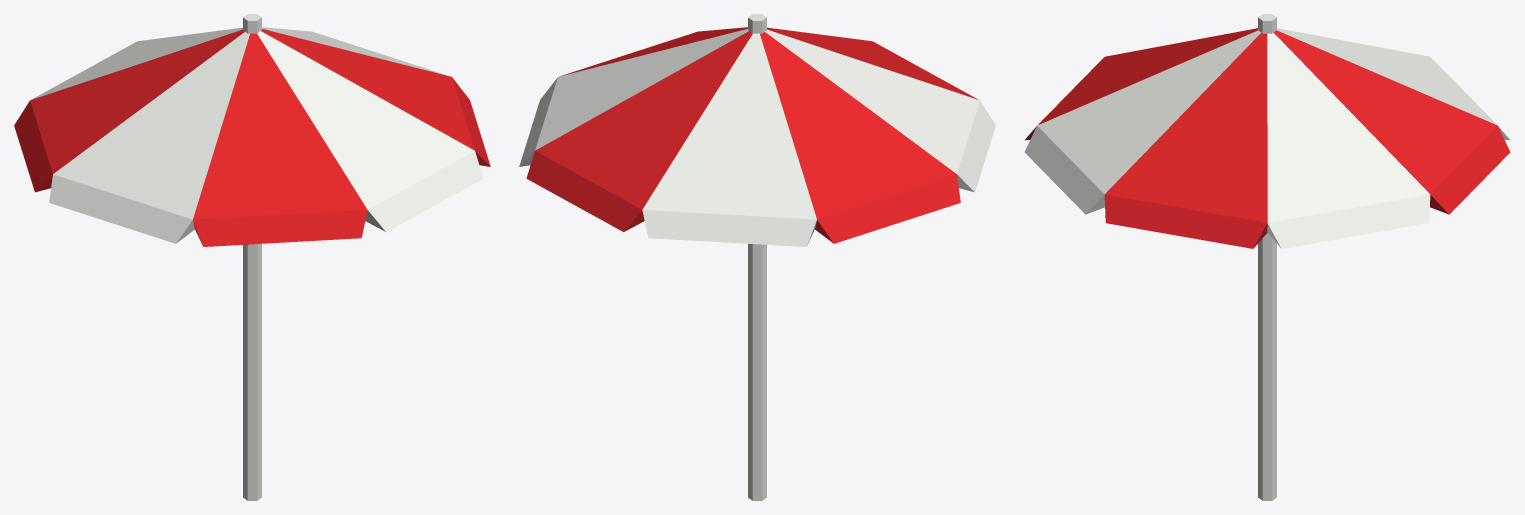
Rendered from umbrellaA.FBX.
3 renders of one model, left to right at view 1: azimuth 30°, elevation 25°; view 2: azimuth 150°, elevation 25°; view 3: azimuth 270°, elevation 25°, orthographic.
Visible parts, largest first — view 1: umbrellaA; view 2: umbrellaA; view 3: umbrellaA.
Boxes of the visible parts, x1,y1,x2,y2 form: umbrellaA: (14, 14, 490, 500); umbrellaA: (519, 14, 995, 500); umbrellaA: (1024, 14, 1510, 500).
Size of the model in its own units: 0.3805 by 0.4147 by 0.3805.
